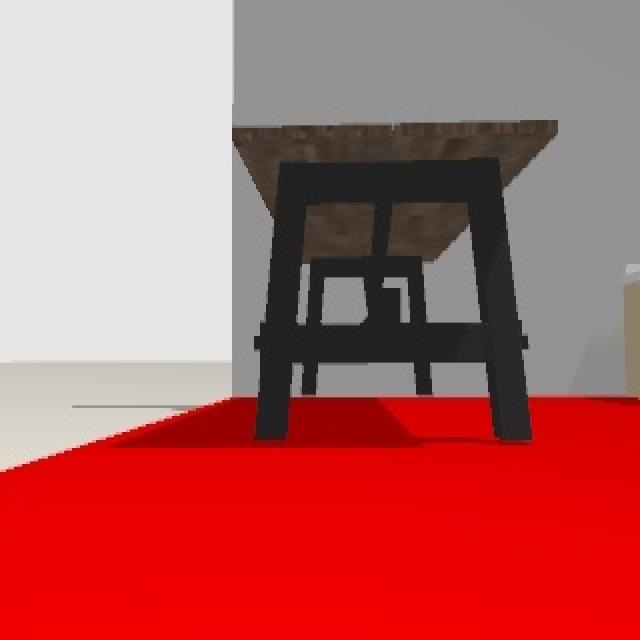dining: (233, 123, 560, 445)
